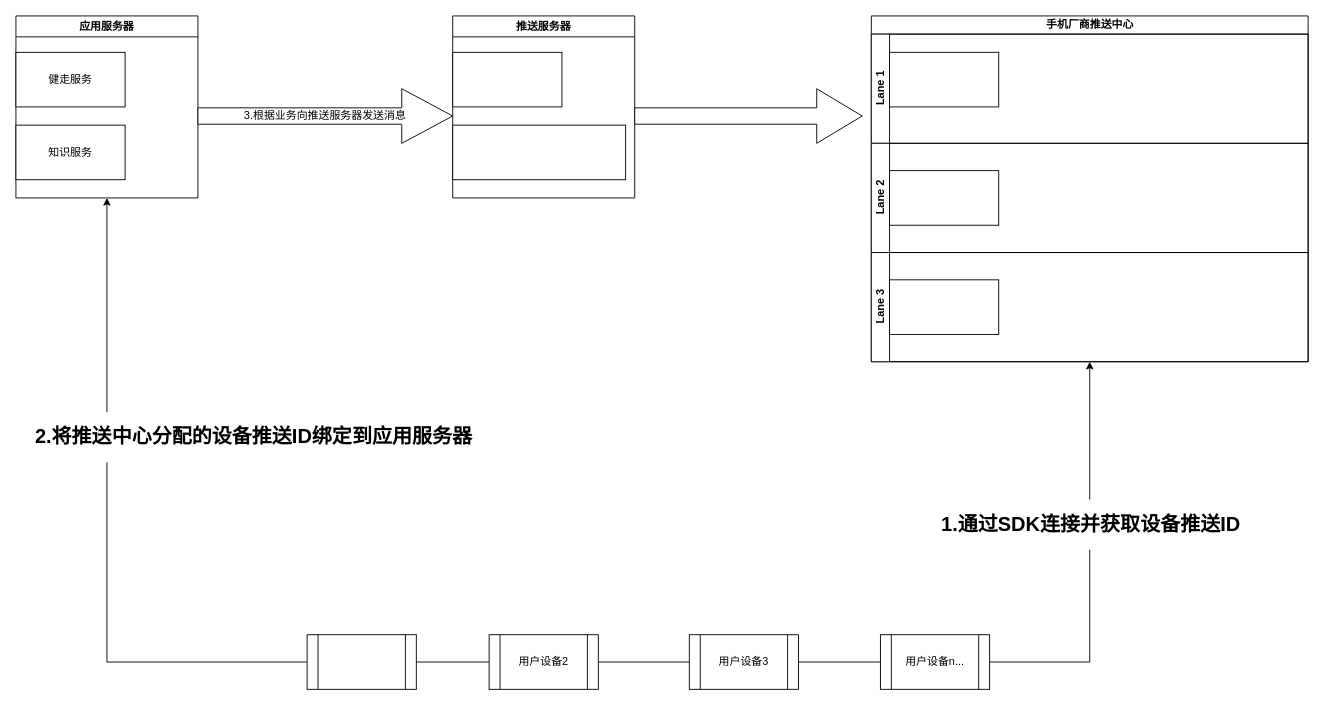
This 1324x705 diagram has some shape labels left out. Each missing label, with the centre of its shape:
VIVO推送: pixel 944 197
其他手机厂商: pixel 944 306
小米推送: pixel 944 79
提供HTTP接口给应用服务器调用: pixel 539 152
用户设备1: pixel 361 661
集成MIXPUSH: pixel 507 79
